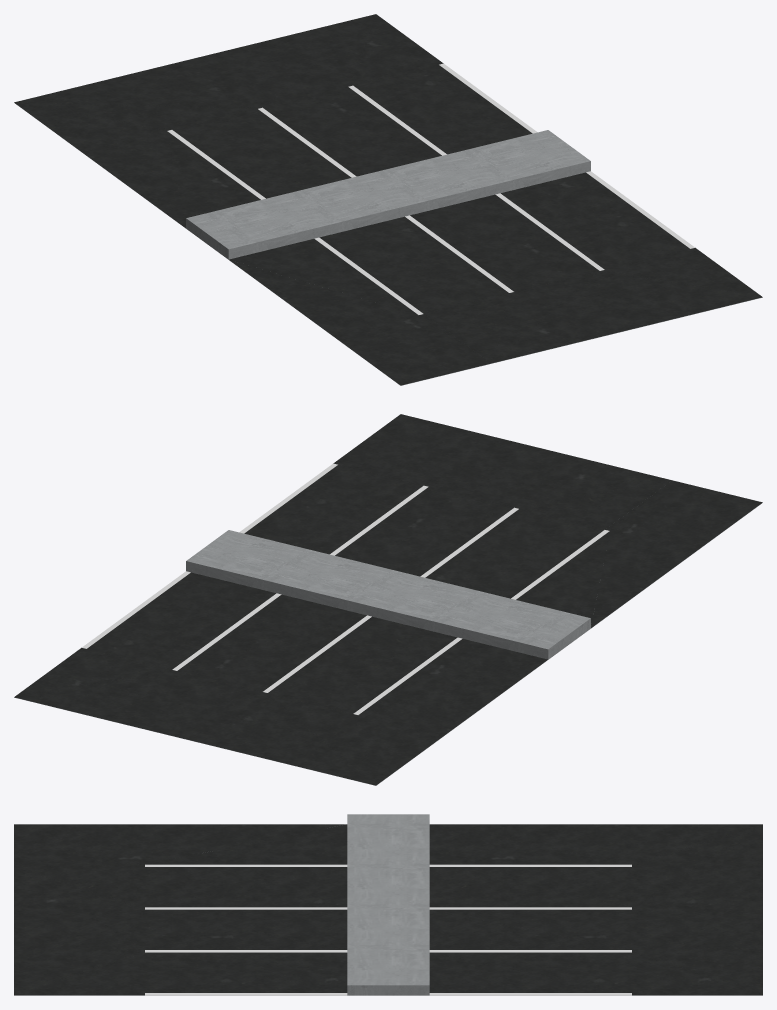
Rendered from env.glb.
The picture shows the model from 3 angles, top to bottom: view 1: azimuth 30°, elevation 25°; view 2: azimuth 150°, elevation 25°; view 3: azimuth 270°, elevation 25°; orthographic projection. The views are drawn at different scales.
Parts seen in each view (by area): view 1: road, curb, road parts; view 2: road, curb, road parts; view 3: road, curb, road parts.
Boxes of the visible parts, x1=… form: road: x1=14, y1=14, x2=762, y2=385; curb: x1=186, y1=130, x2=590, y2=259; road parts: x1=14, y1=63, x2=762, y2=385; road: x1=14, y1=414, x2=762, y2=785; curb: x1=186, y1=530, x2=590, y2=659; road parts: x1=14, y1=463, x2=762, y2=785; road: x1=14, y1=824, x2=762, y2=995; curb: x1=347, y1=814, x2=429, y2=995; road parts: x1=14, y1=864, x2=762, y2=995.
Size of the model in its own units: 10.8 by 0.2999 by 19.98.
Materials: 3 (2 with a texture image).
